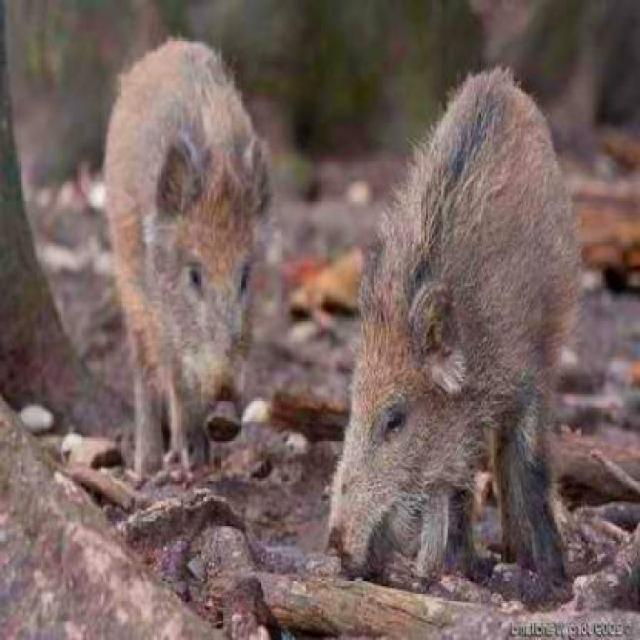Boar: (297, 57, 635, 595), (98, 10, 276, 488)
